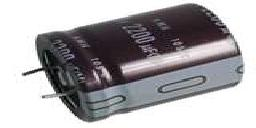Electrolytic-Capacitor: (21, 1, 247, 120)
